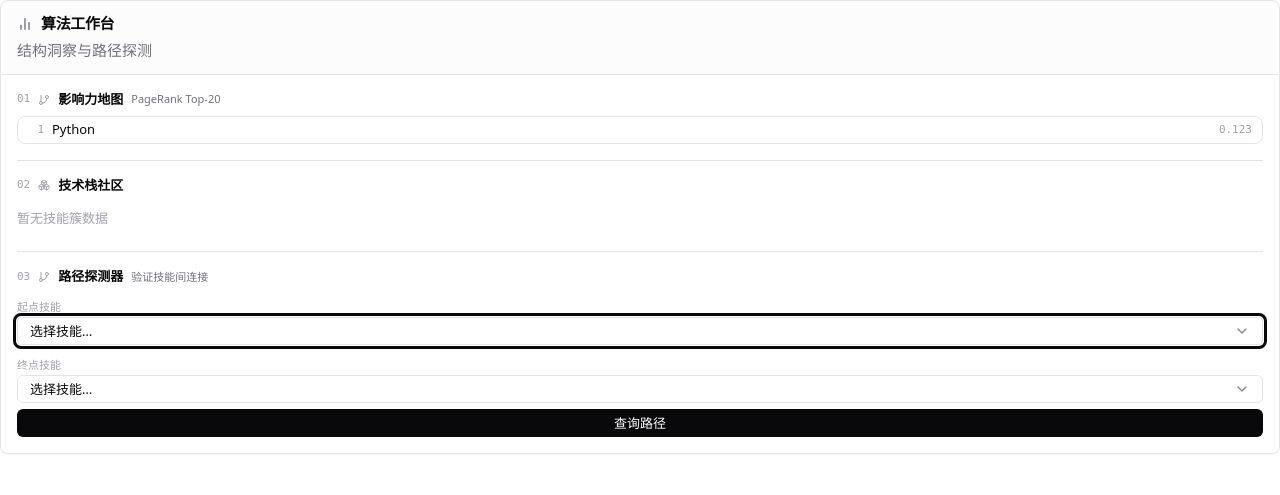
Test: GraphAnalysisPanel › 最短路径无路径时展示错误文案
Expected: the text "PageRank Top-20" is shown, left=131, top=91, right=220, bottom=108
Press Enter Arrowdown Enter
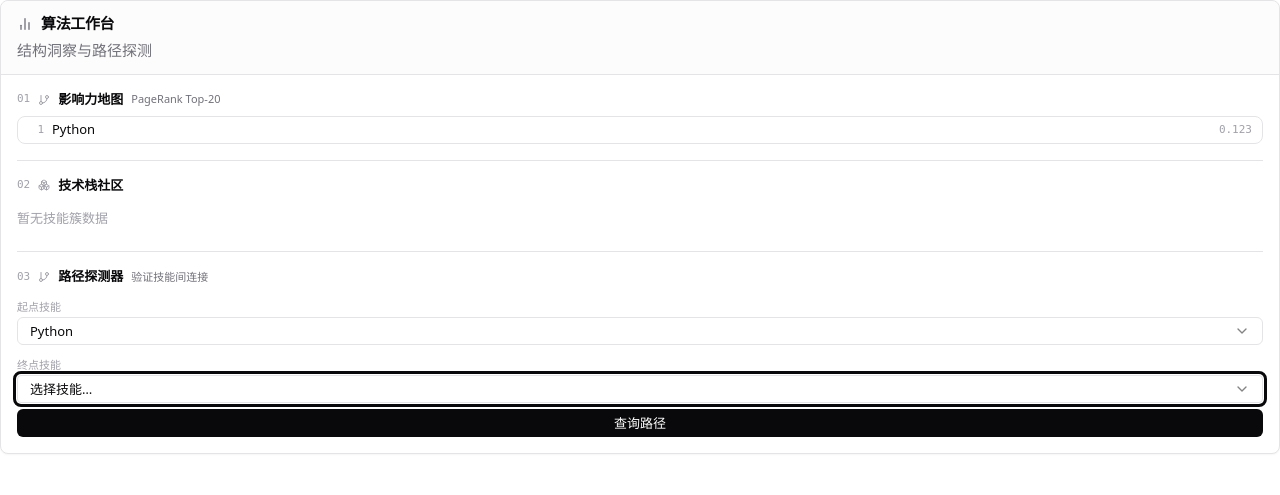
Press Enter Arrowdown Enter
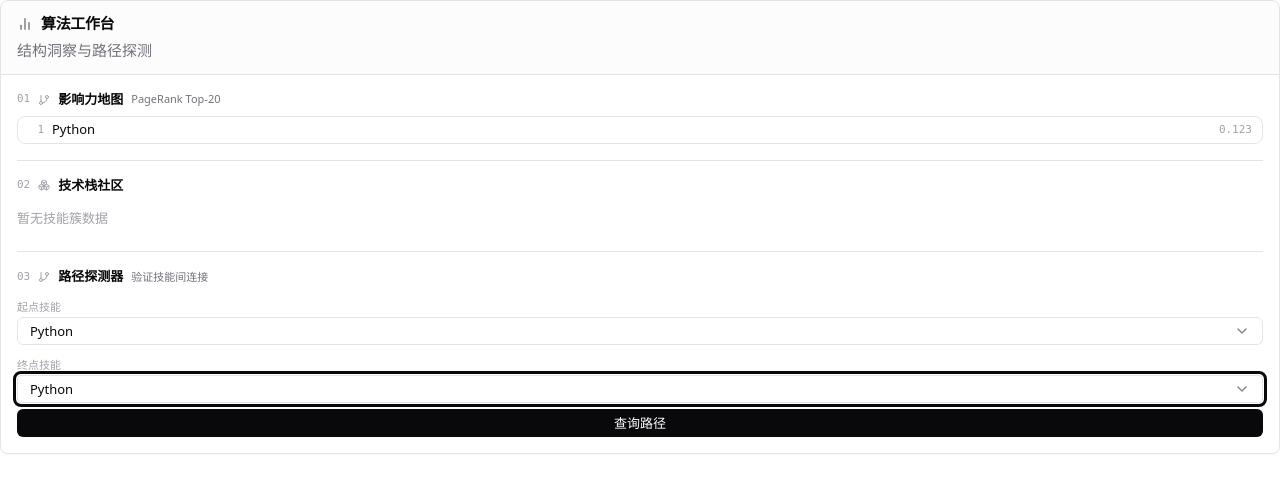
Click the button "查询路径".
click(640, 424)  # box left=17, top=410, right=1263, bottom=438
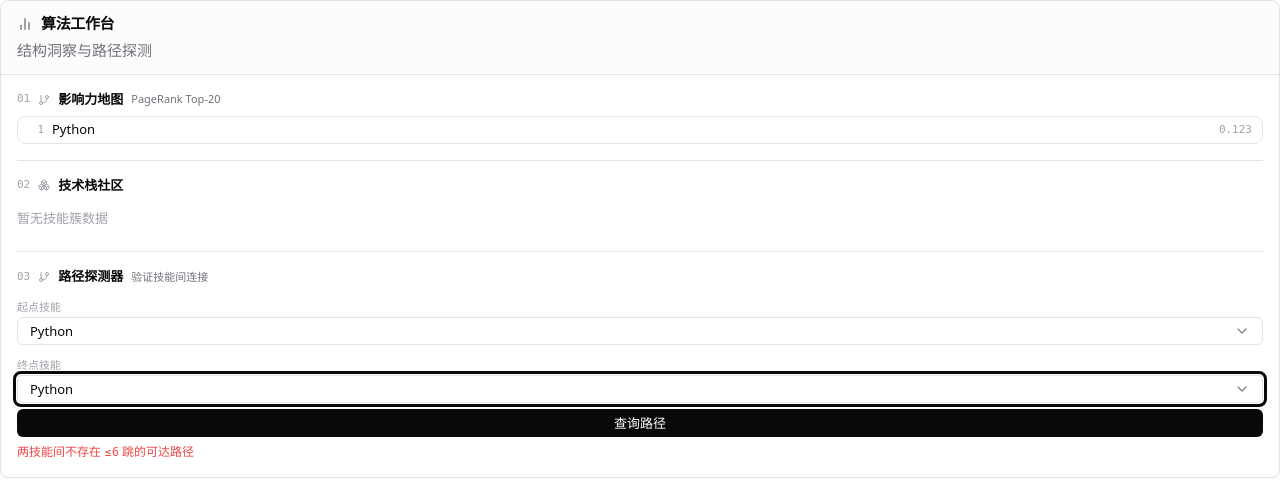
Expected: the text "两技能间不存在 ≤6 跳的可达路径" is shown, left=17, top=444, right=194, bottom=460
